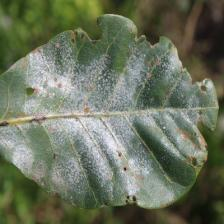red rust: (0, 13, 219, 210)
